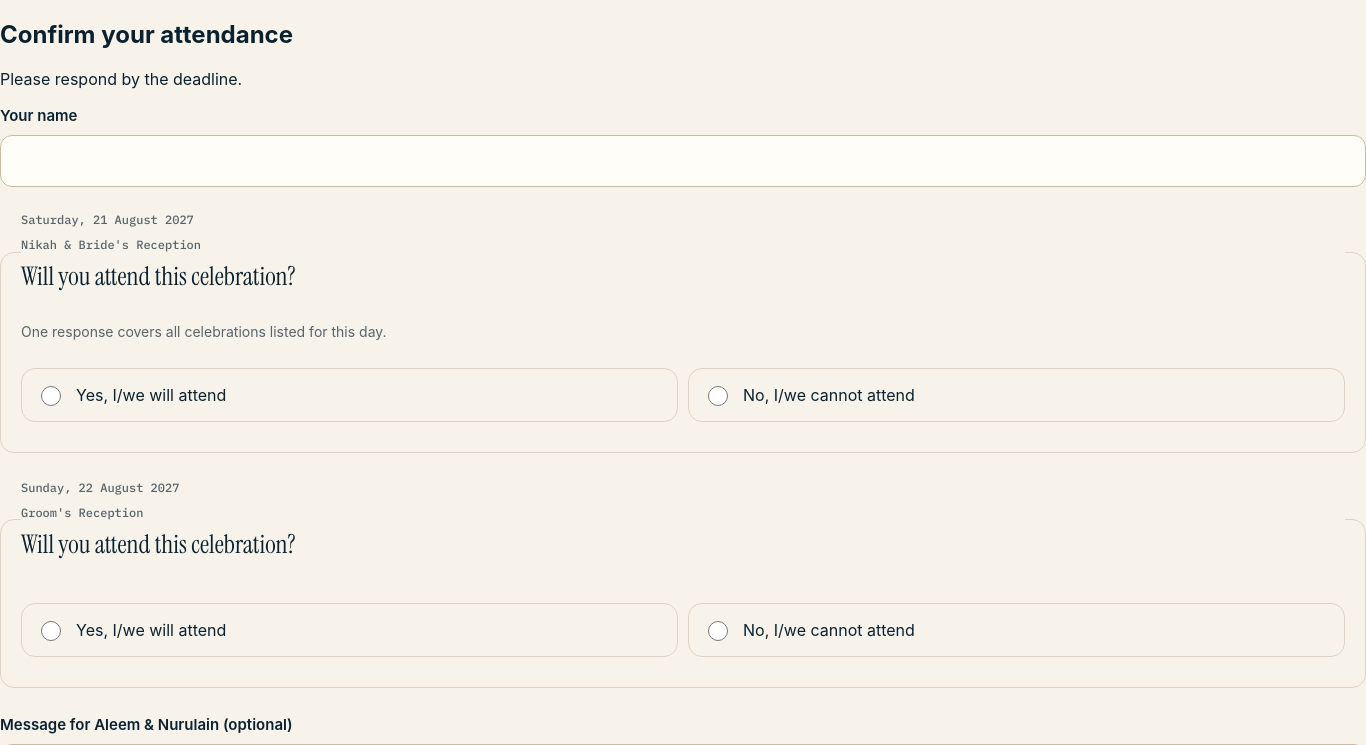
Test: RSVP flight confirmation › shows a warm successful decline with no calendar actions or party size
In the field labelled "Your name": (683, 161) [0,135,1365,187], type "Aminah Rahman"
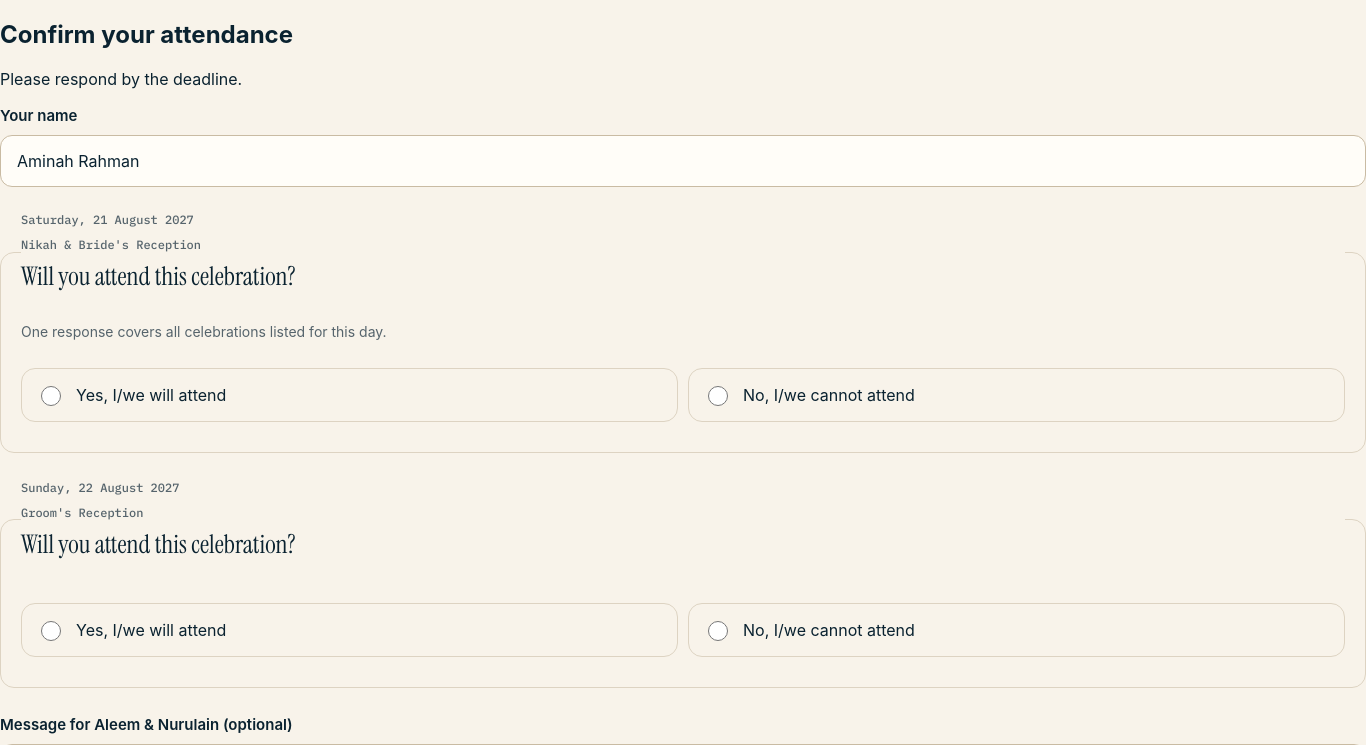
Click the radio button with id "attendance-0-no": (718, 396) [708,386,728,406]
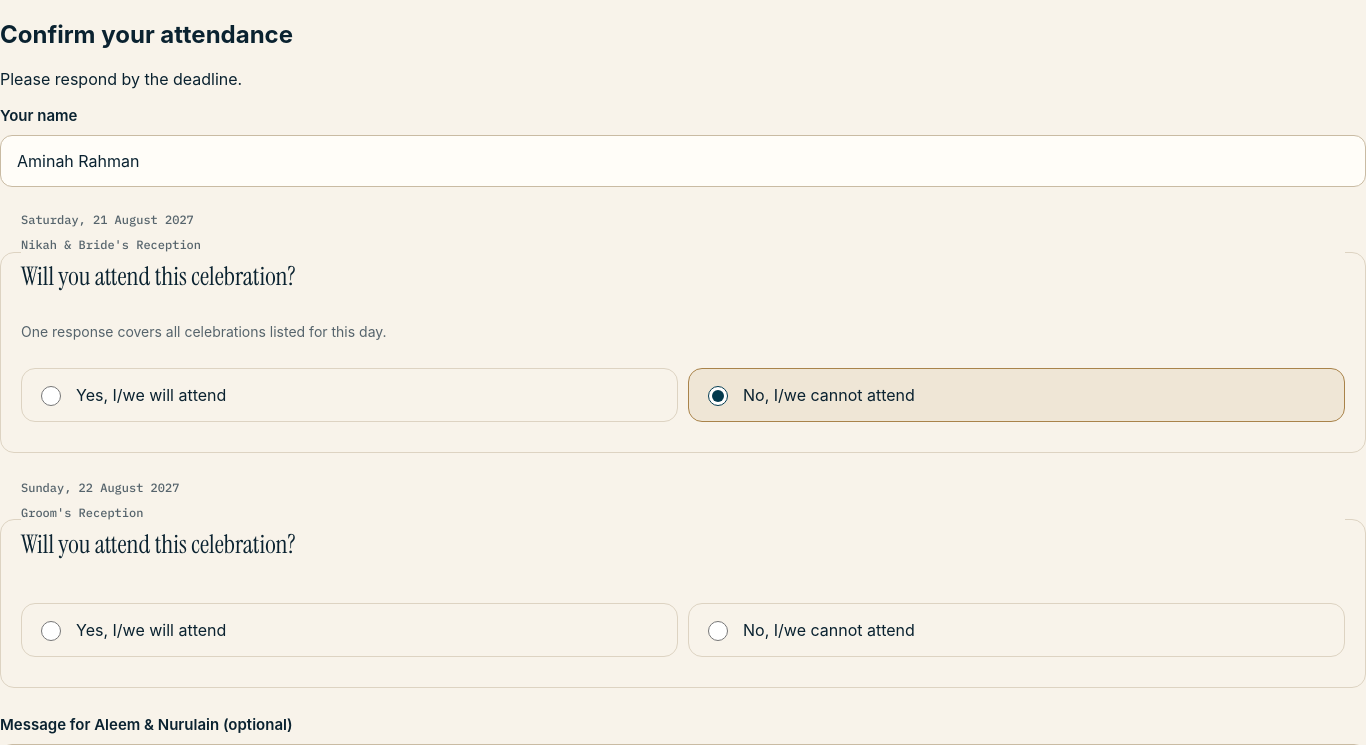
Click the 2nd radio button labelled "No, I/we cannot attend": (718, 631) [708,621,728,641]
(page scrolled)
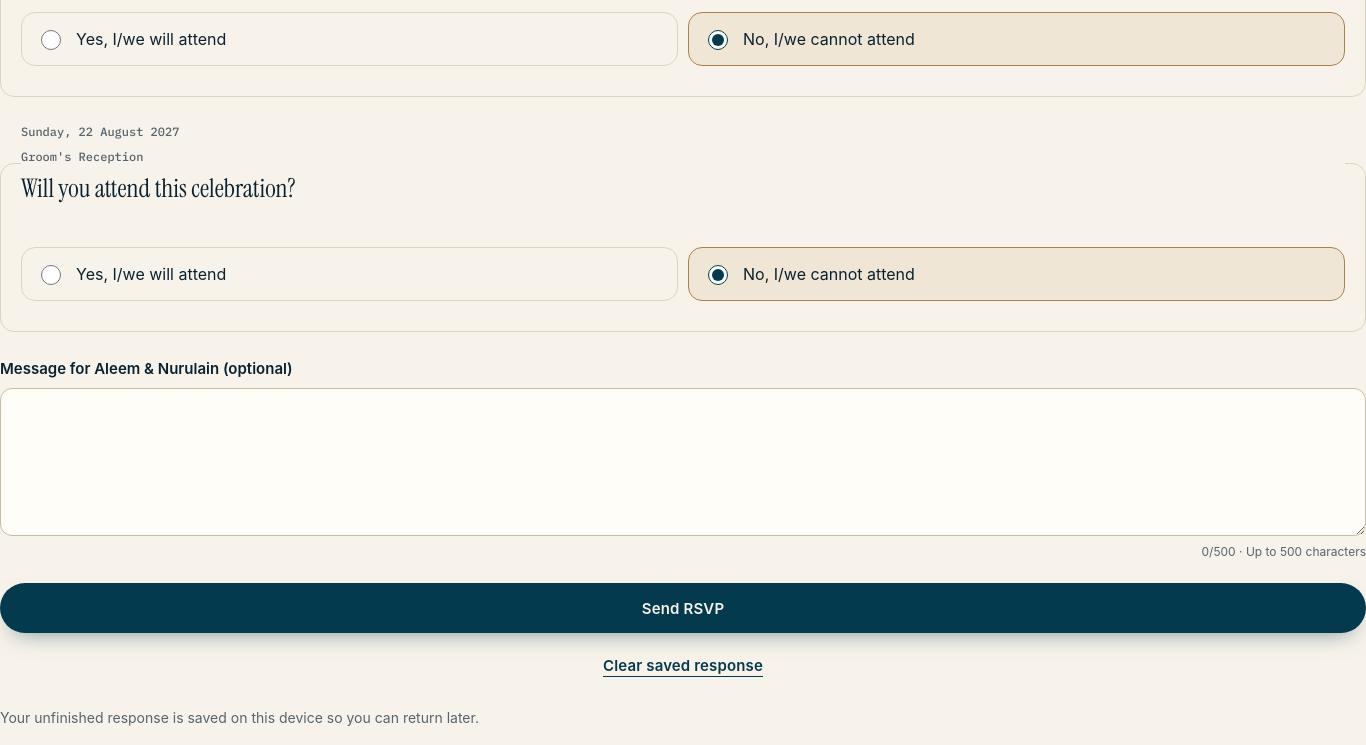
Click the button "Send RSVP": (683, 608) [0,583,1365,633]
(page scrolled)
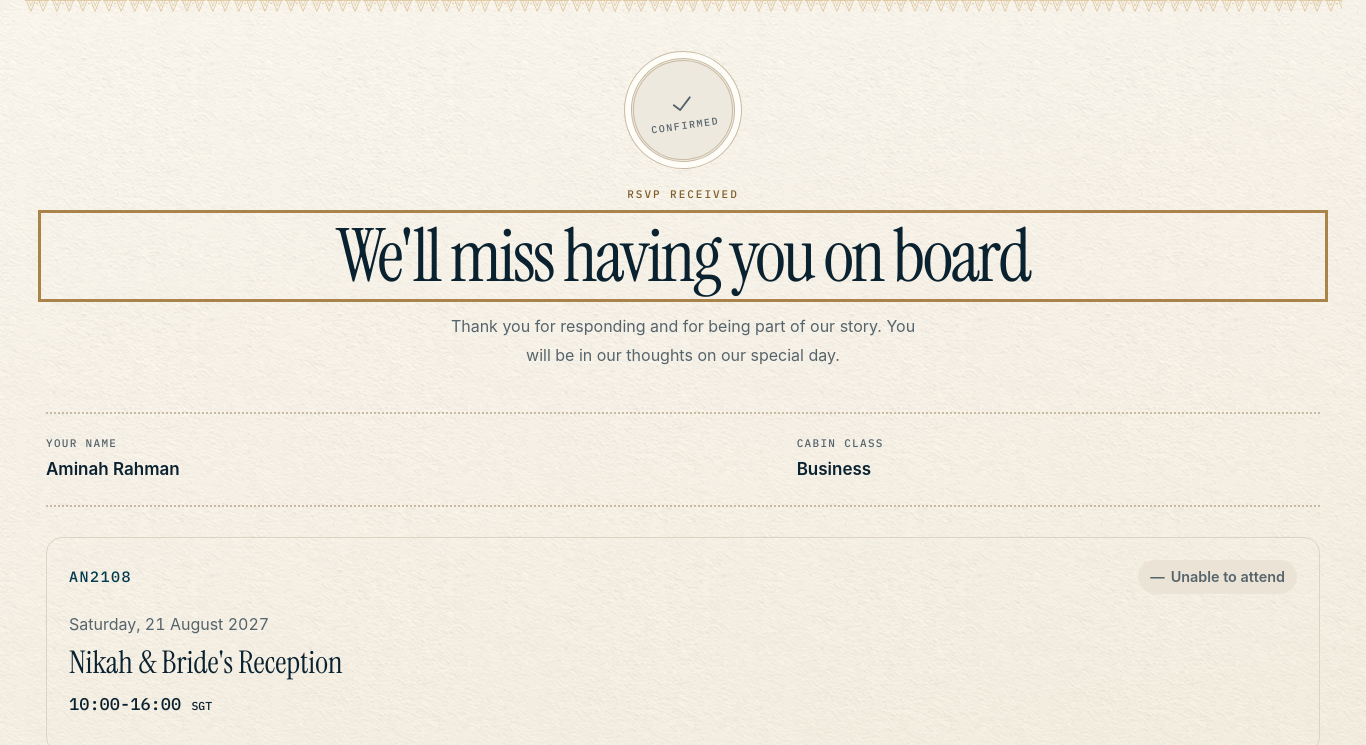
Expected: the heading "We'll miss having you on board" is shown, [337,208,1029,304]
Expected: the message shows "Thank you for responding", [451,316,915,365]
Expected: the text "Unable to attend" is shown 2 times
